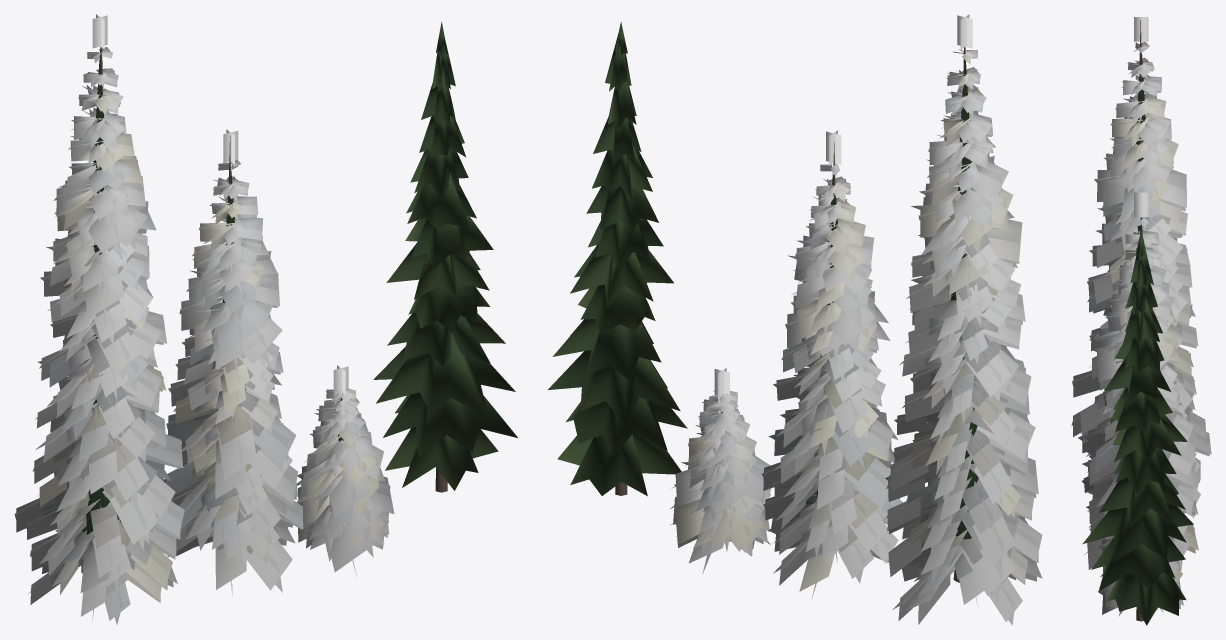
Rendered from spruce.glb.
3 views of the same model, side by side, from view 1: azimuth 30°, elevation 25°; view 2: azimuth 150°, elevation 25°; view 3: azimuth 270°, elevation 25° (orthographic). The views are drawn at different scales.
Visible parts, largest first — view 1: spruce_a_leaves, spruce_b_leaves, spruce_f, spruce_c_leaves, spruce_a; view 2: spruce_a_leaves, spruce_b_leaves, spruce_f, spruce_c_leaves, spruce_a; view 3: spruce_a_leaves, spruce_f, spruce_b_leaves, spruce_c_leaves, spruce_a.
Part boxes in pixels (bbox=[...]): spruce_a_leaves: bbox=[14, 14, 184, 624]; spruce_b_leaves: bbox=[163, 129, 303, 595]; spruce_f: bbox=[373, 22, 517, 492]; spruce_c_leaves: bbox=[296, 365, 394, 577]; spruce_a: bbox=[82, 47, 120, 534]; spruce_a_leaves: bbox=[884, 14, 1042, 625]; spruce_b_leaves: bbox=[762, 130, 902, 599]; spruce_f: bbox=[548, 22, 687, 496]; spruce_c_leaves: bbox=[669, 368, 770, 574]; spruce_a: bbox=[951, 47, 978, 582]; spruce_a_leaves: bbox=[1071, 17, 1211, 518]; spruce_f: bbox=[1082, 229, 1193, 625]; spruce_b_leaves: bbox=[1083, 192, 1198, 570]; spruce_c_leaves: bbox=[1097, 535, 1183, 615]; spruce_a: bbox=[1136, 20, 1145, 231].
Size of the model in its own units: 23.38 by 28.7 by 7.26.
